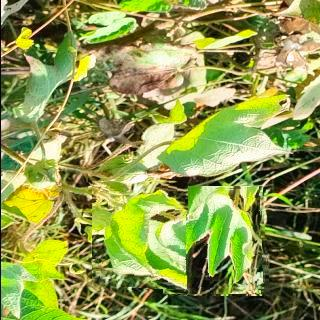curl: (162, 187, 268, 294), (91, 181, 186, 290)
